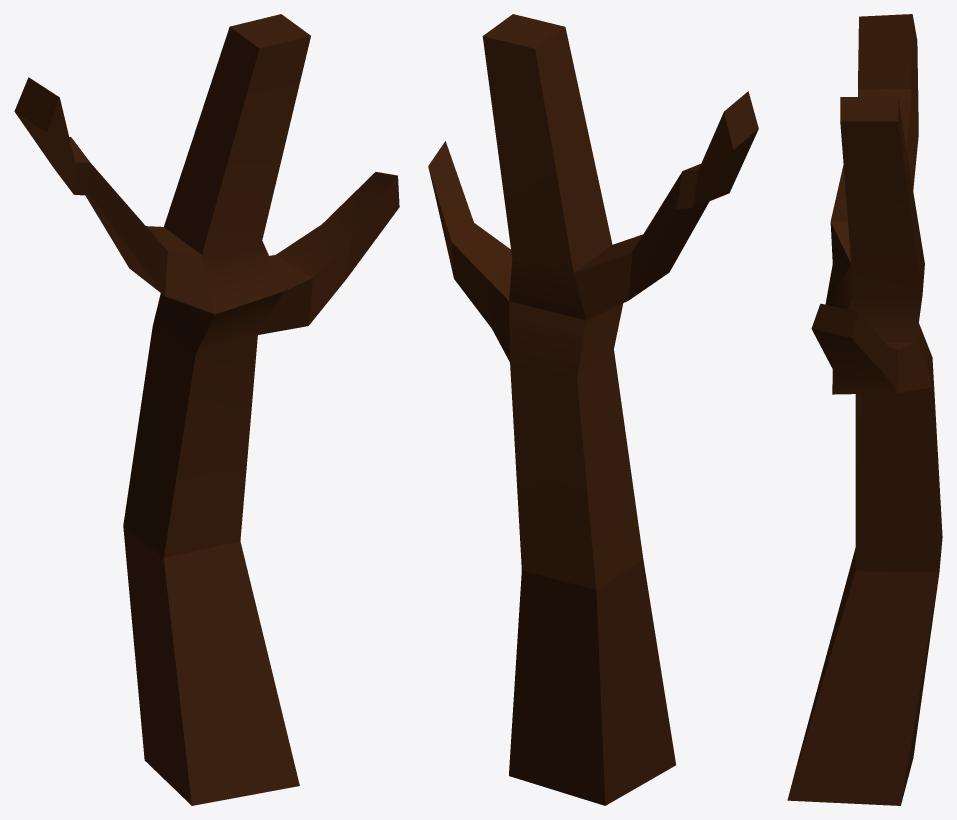
The model's file is trunk.fbx.
3 views of the same model, side by side, from view 1: azimuth 30°, elevation 25°; view 2: azimuth 150°, elevation 25°; view 3: azimuth 270°, elevation 25° (orthographic). The views are drawn at different scales.
Parts seen in each view (by area): view 1: sm_treeTrunk2; view 2: sm_treeTrunk2; view 3: sm_treeTrunk2.
Part boxes in pixels (left/top/right/bottom): sm_treeTrunk2: left=14, top=14, right=399, bottom=805; sm_treeTrunk2: left=428, top=14, right=758, bottom=805; sm_treeTrunk2: left=787, top=14, right=942, bottom=805.
Size of what is drawn, in the model's own units: 329 by 137 by 680.
